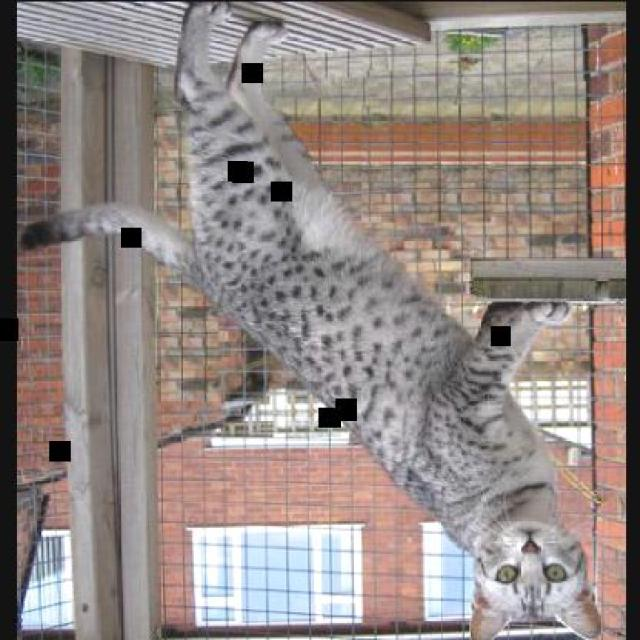unauthorized: (16, 0, 601, 638)
